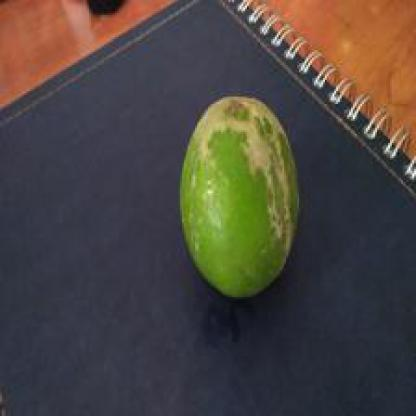orange_rotten: (146, 85, 348, 316)
